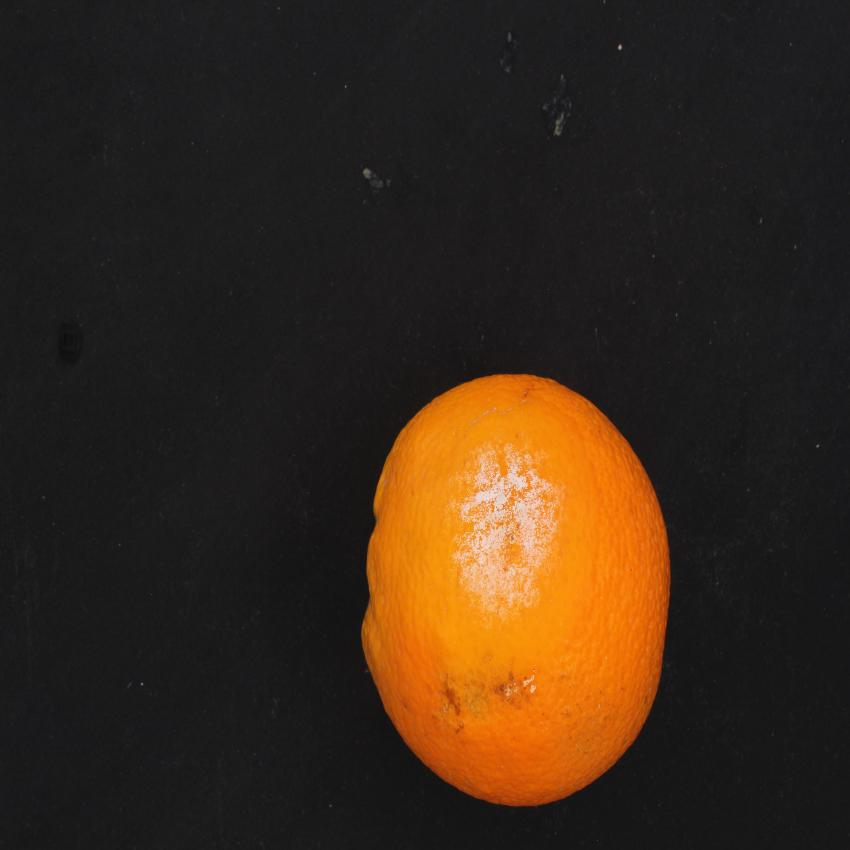Mal estado: (356, 365, 680, 818)
